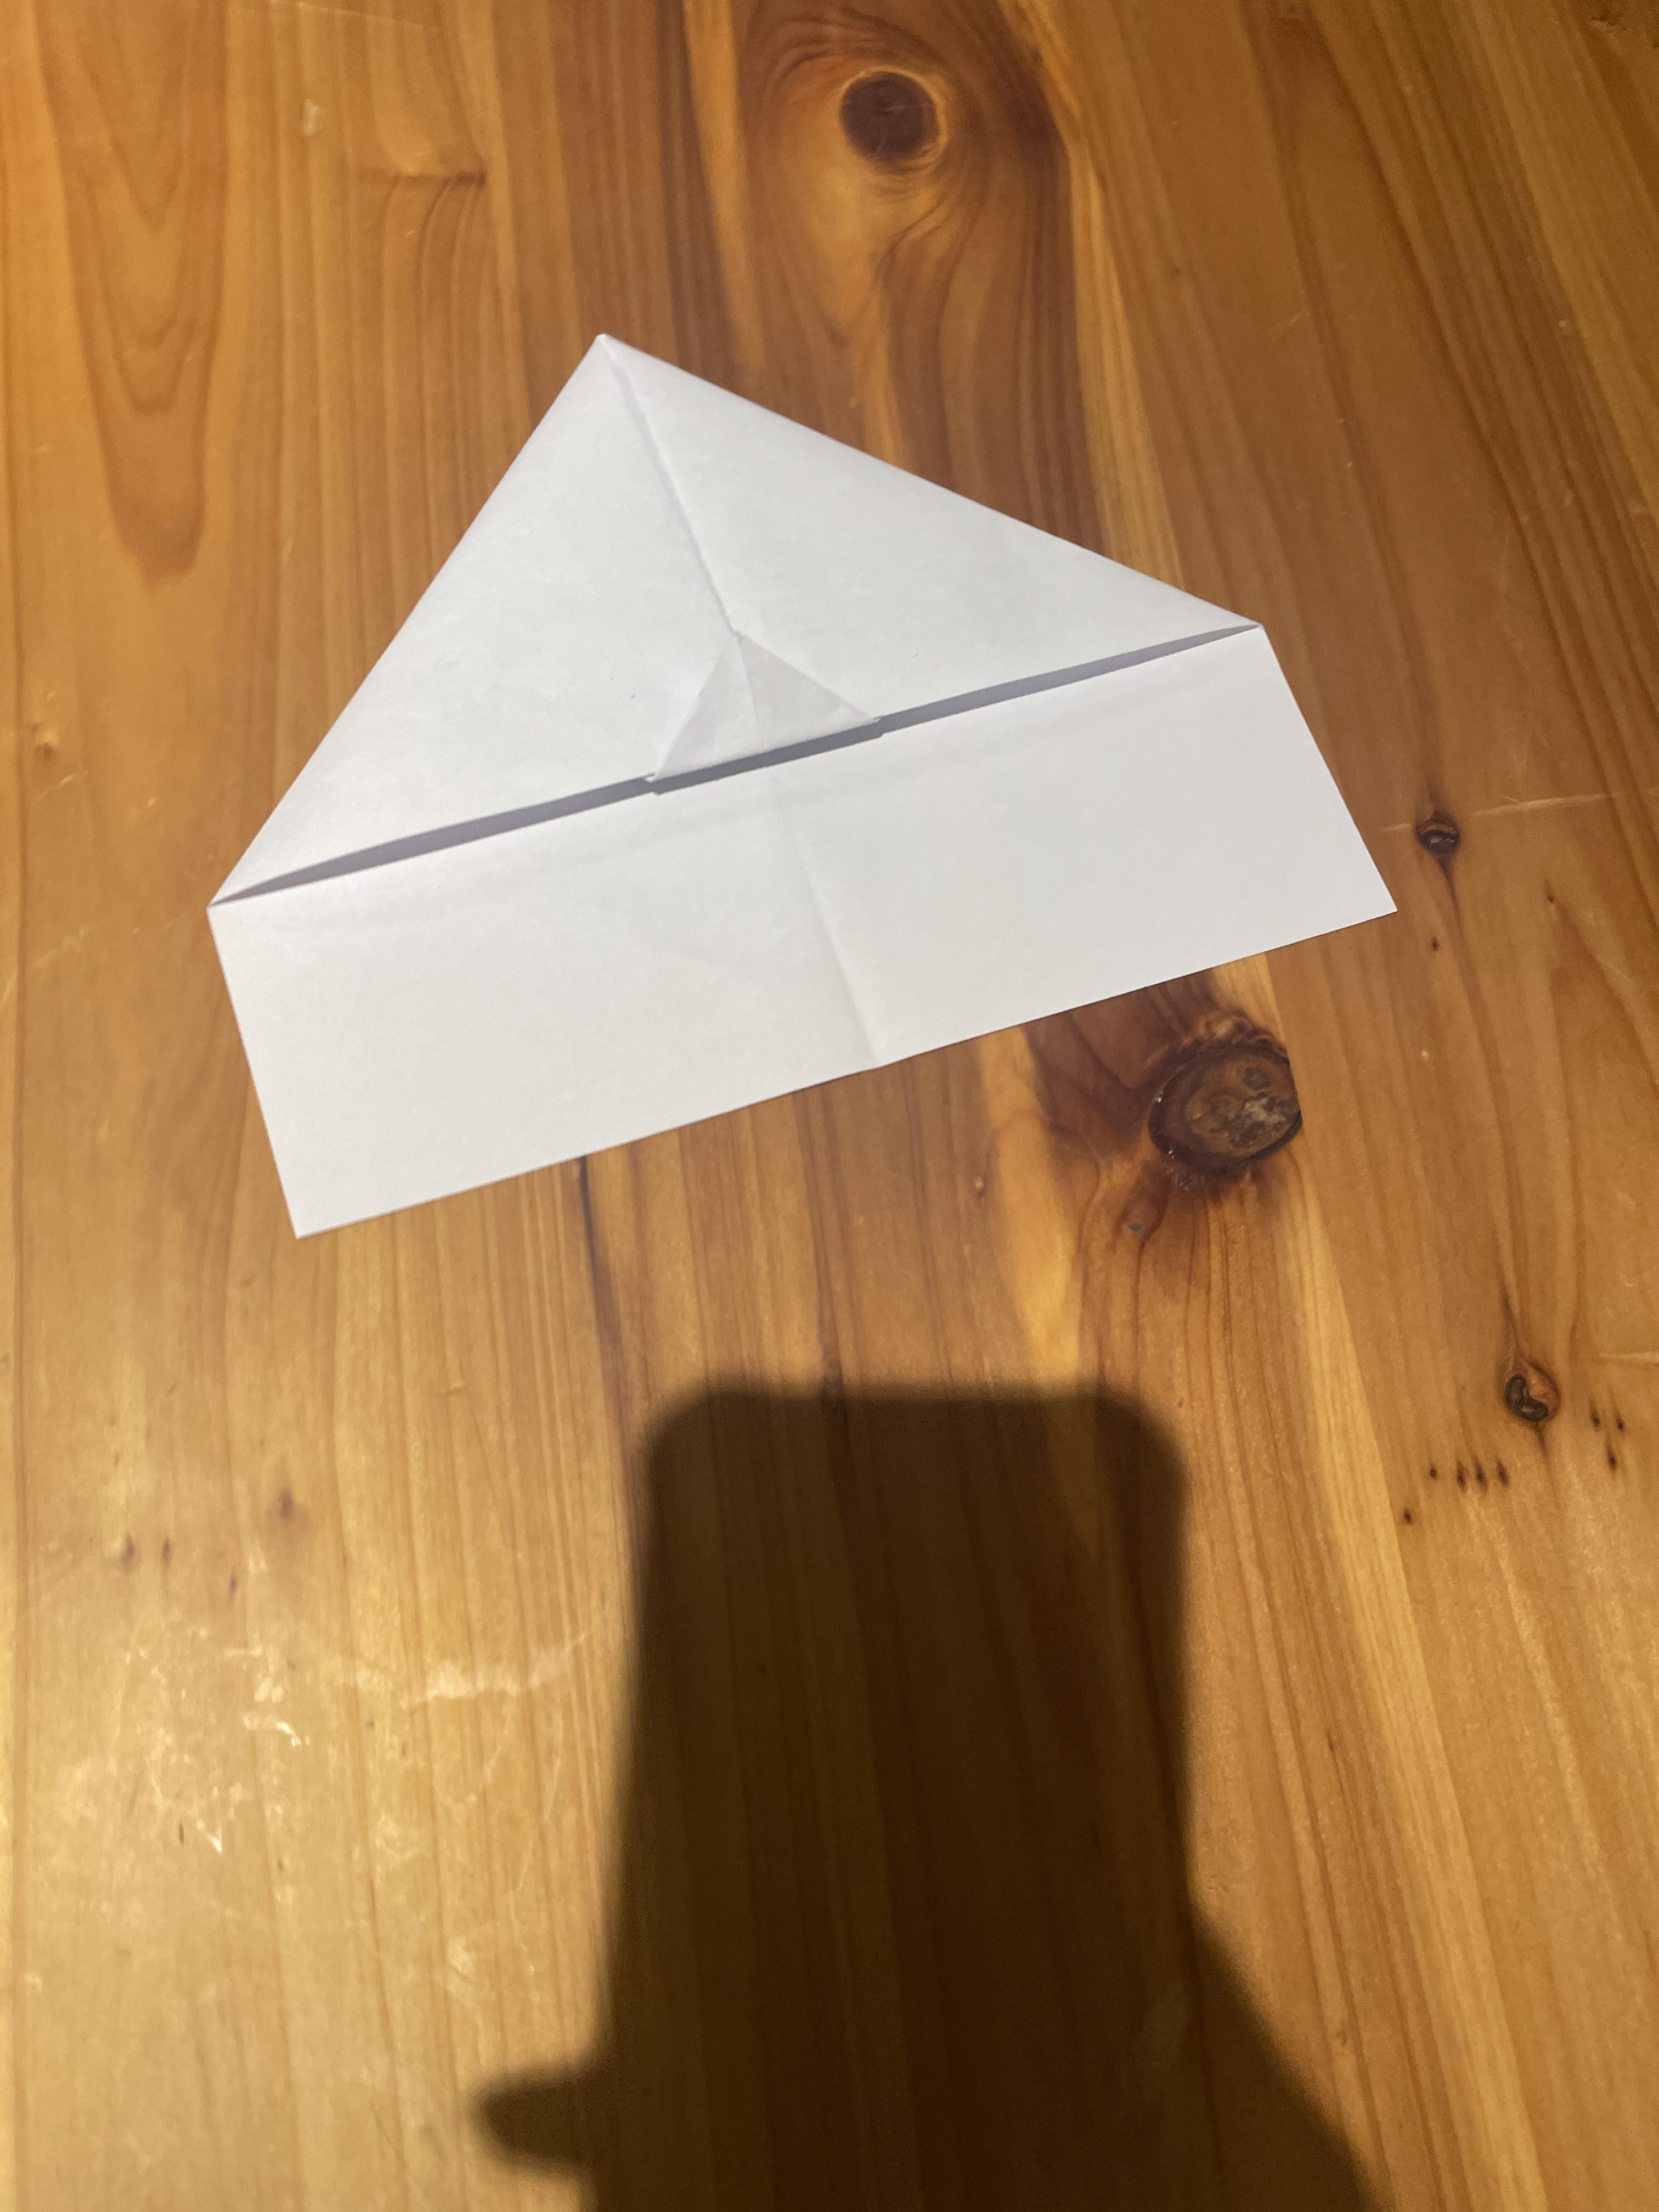shape_2: (132, 214, 1434, 1310)
